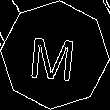M_N: (29, 28, 81, 82)
